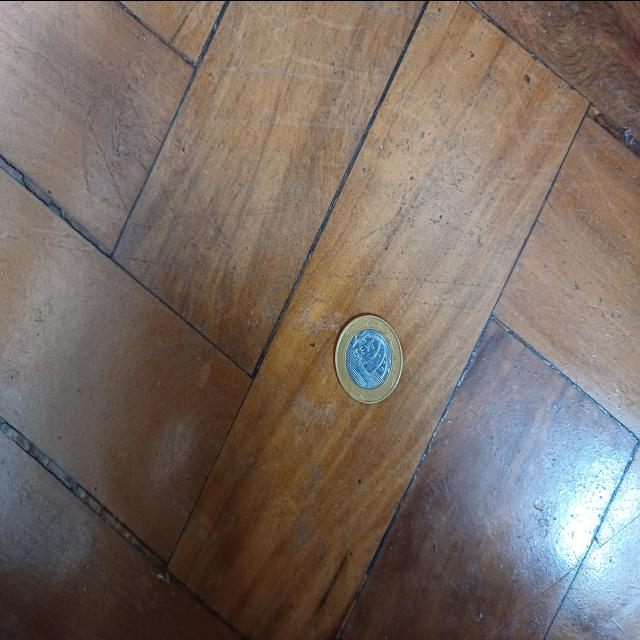1 real: (334, 311, 404, 407)
